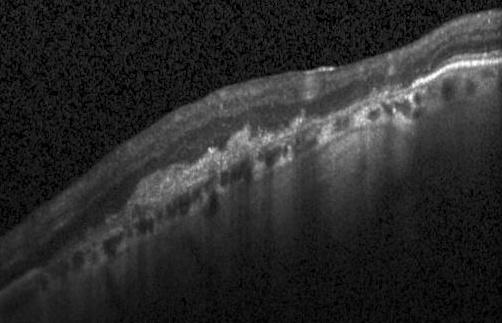subretinal_hyperreflective_material: (105, 115, 315, 229)
